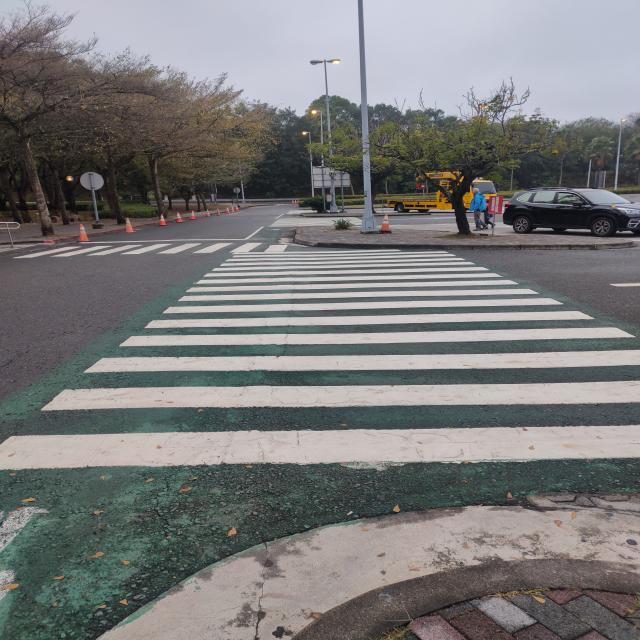zebra crossing: (0, 252, 640, 472), (16, 245, 288, 257)
